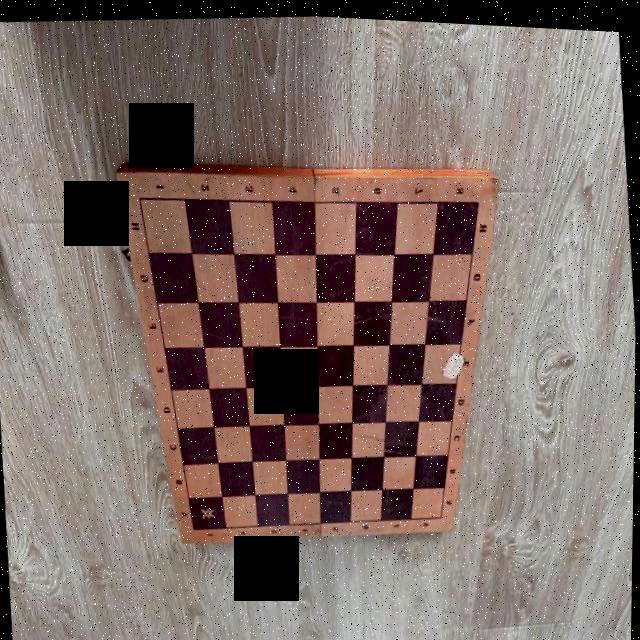chess-table-corners: (473, 192, 484, 202), (136, 192, 144, 202), (192, 523, 198, 531), (439, 509, 445, 515)
